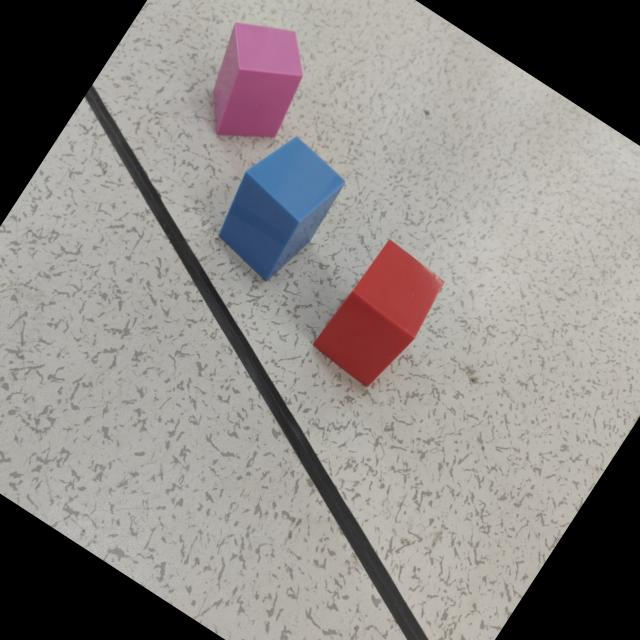blue: (217, 138, 343, 282)
pink: (211, 22, 302, 139)
red: (312, 242, 443, 388)
